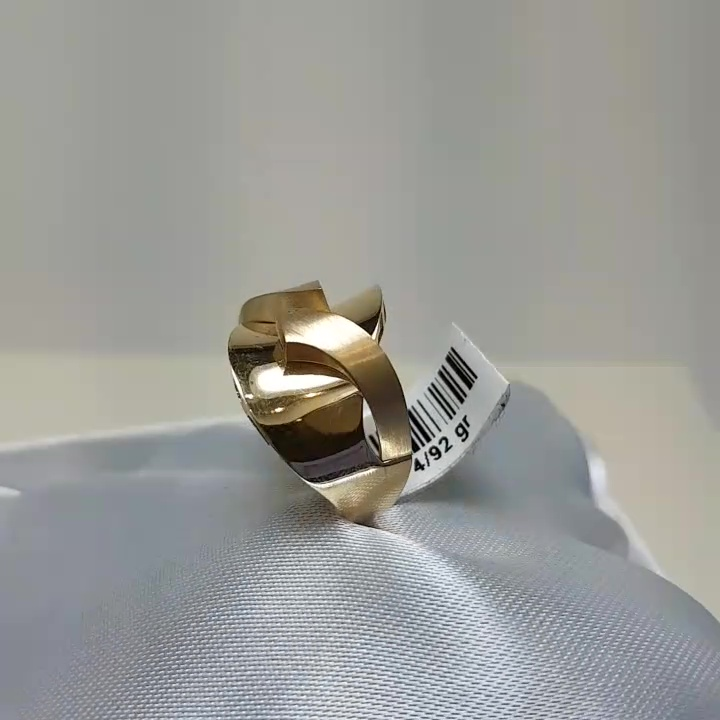Ring 4: (216, 267, 431, 534)
